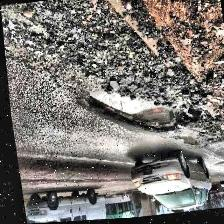pothole: (85, 78, 203, 144)
